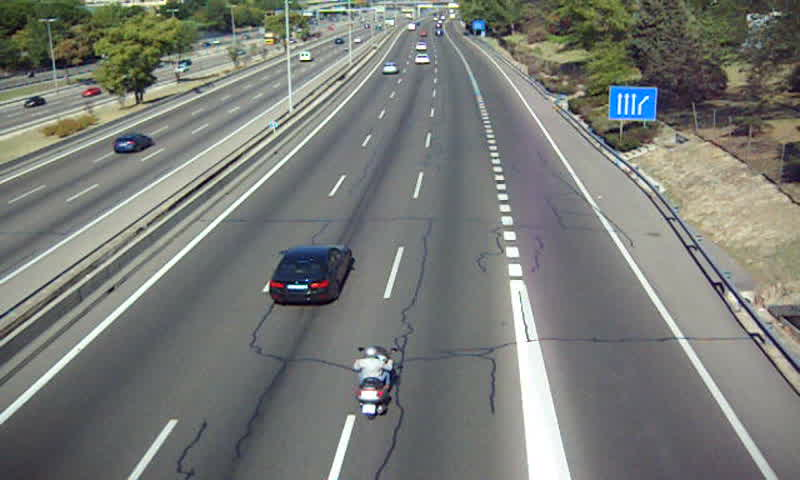car: (270, 245, 352, 307), (413, 54, 432, 66), (382, 61, 396, 76)
motorcycle: (352, 345, 398, 421)
